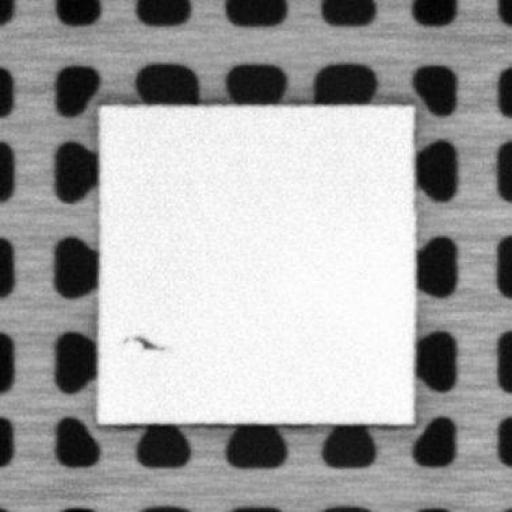DIE_INK: (135, 334, 156, 348)
